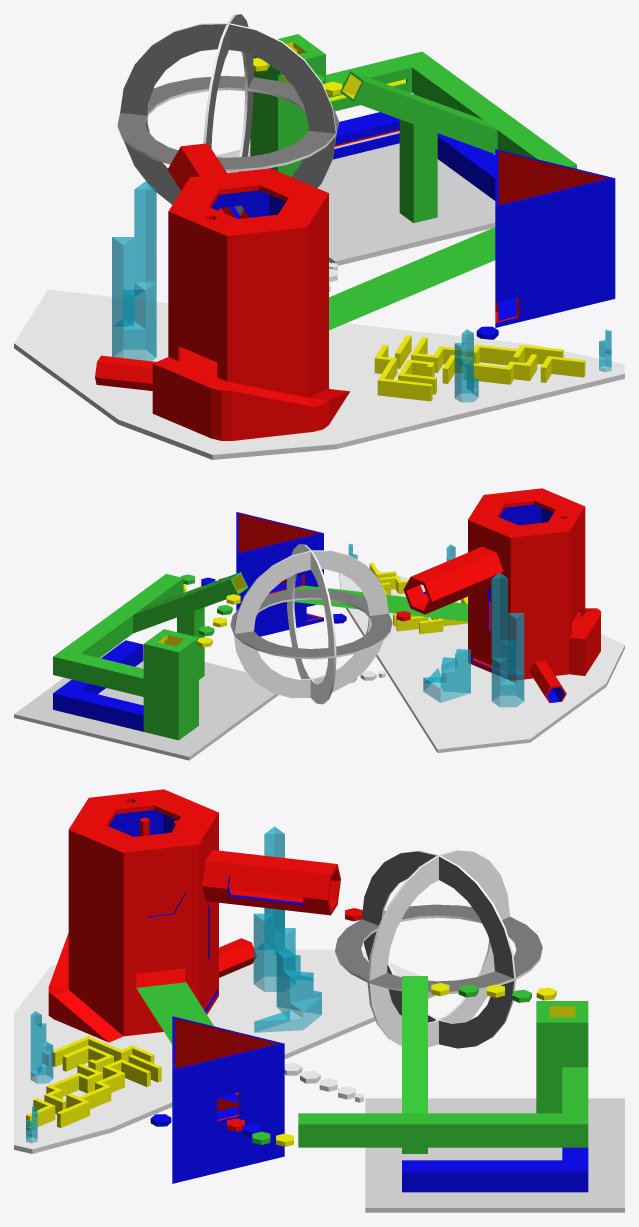
The model's file is Map.obj.
The picture shows the model from 3 angles, top to bottom: view 1: azimuth 30°, elevation 25°; view 2: azimuth 150°, elevation 25°; view 3: azimuth 270°, elevation 25°; orthographic projection. The views are drawn at different scales.
Visible parts, largest first — view 1: Mesh1 Model, Mesh2 Model, Mesh19 Model, Mesh16 Model, Mesh18 Model, Mesh20 Model, Mesh3 Model, Mesh5 Model, Mesh15 Model, Mesh6 Model, Mesh7 Model; view 2: Mesh1 Model, Mesh2 Model, Mesh20 Model, Mesh16 Model, Mesh18 Model, Mesh19 Model, Mesh14 Model, Mesh5 Model; view 3: Mesh1 Model, Mesh2 Model, Mesh20 Model, Mesh19 Model, Mesh18 Model, Mesh16 Model, Mesh14 Model, Mesh15 Model, Mesh3 Model, Mesh5 Model, Mesh7 Model, Mesh6 Model.
Boxes of the visible parts, x1,y1,x2,y2 form: Mesh1 Model: (14,143,624,459); Mesh2 Model: (216,34,576,265); Mesh19 Model: (120,23,336,215); Mesh16 Model: (112,181,156,361); Mesh18 Model: (117,76,338,171); Mesh20 Model: (203,14,253,171); Mesh3 Model: (442,354,537,384); Mesh5 Model: (374,344,432,401); Mesh15 Model: (454,329,478,402); Mesh6 Model: (540,356,585,382); Mesh7 Model: (398,359,436,394); Mesh1 Model: (236,488,624,752); Mesh2 Model: (14,572,278,760); Mesh20 Model: (234,550,388,698); Mesh16 Model: (491,572,524,707); Mesh18 Model: (230,589,392,659); Mesh19 Model: (286,544,336,704); Mesh14 Model: (423,649,470,702); Mesh5 Model: (419,597,467,634); Mesh1 Model: (14,789,435,1183); Mesh2 Model: (298,976,624,1212); Mesh20 Model: (361,850,515,1048); Mesh19 Model: (367,850,509,1047); Mesh18 Model: (335,904,542,993); Mesh16 Model: (253,826,295,991); Mesh14 Model: (254,951,321,1032); Mesh15 Model: (30,1011,53,1083); Mesh3 Model: (44,1064,102,1114); Mesh5 Model: (52,1036,154,1066); Mesh7 Model: (62,1045,113,1072); Mesh6 Model: (26,1098,55,1130).
Bounding box in the file's own units: 118 × 46 × 118.
Materials: 11 (1 with a texture image).
